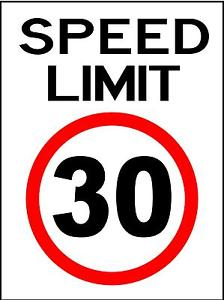Speed_limit_30km: (26, 112, 198, 284)
